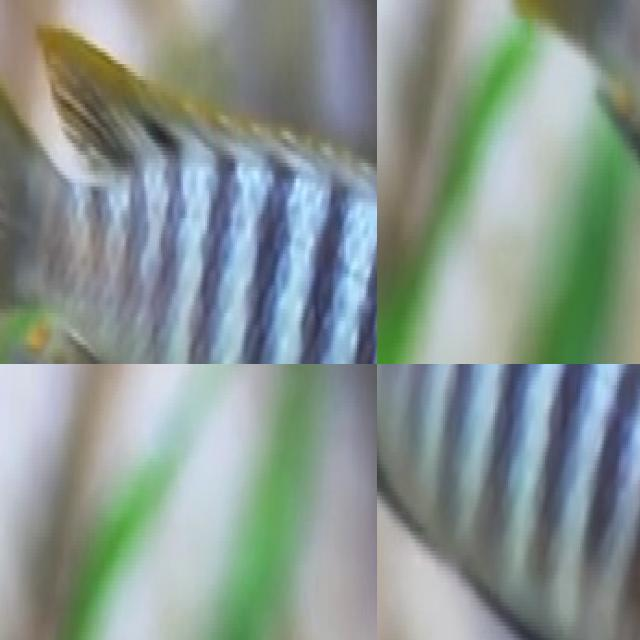fish: (0, 1, 377, 364)
